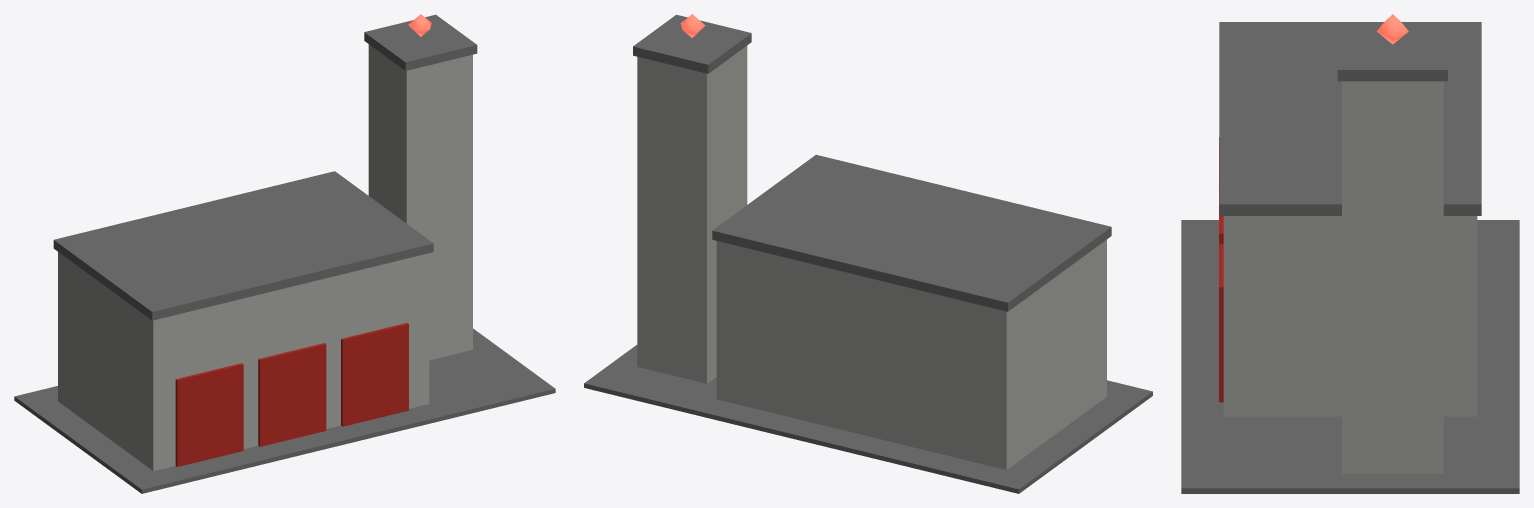
Rendered from bld_special_fire_station_a06_lod2.glb.
3 views of the same model, side by side, from view 1: azimuth 30°, elevation 25°; view 2: azimuth 150°, elevation 25°; view 3: azimuth 270°, elevation 25° (orthographic). The views are drawn at different scales.
Parts seen in each view (by area): view 1: body; view 2: body; view 3: body.
Boxes of the visible parts, box(x1,y1,x2,y2) form: body: box(14, 14, 555, 493); body: box(584, 14, 1152, 493); body: box(1181, 14, 1519, 493).
Bounding box in the file's own units: 15 × 11.58 × 8.
